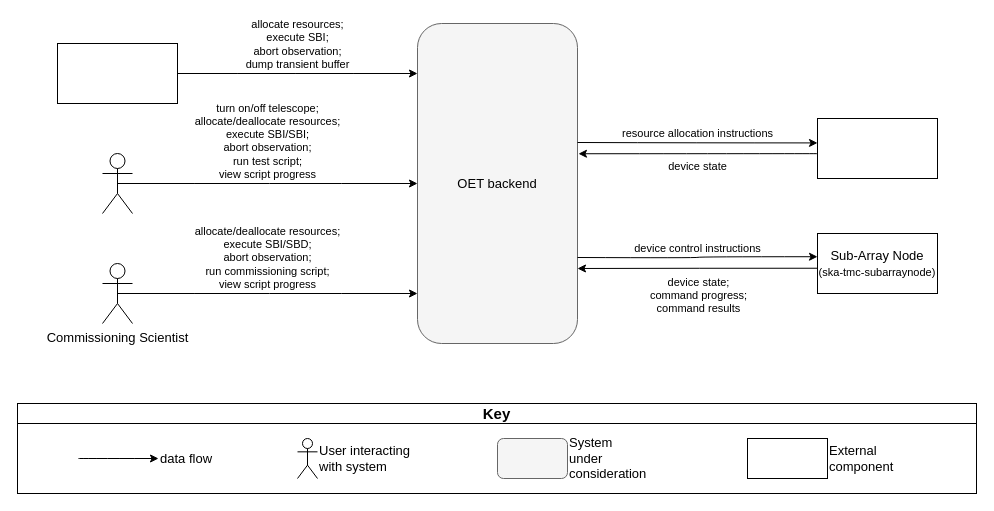
This 994x511 diagram has some shape labels left out. Each missing label, with the box of its shape:
Central Node (ska-tmc-centralnode): (816, 118, 938, 178)
Observation Scheduling Tool (ska-oso-ost): (56, 42, 178, 104)
Test Engineer / Integration Engineer: (102, 152, 132, 214)
